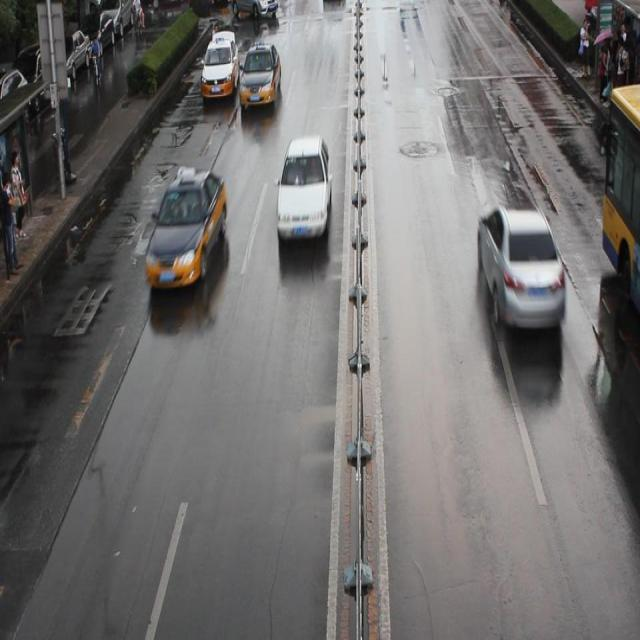car: (477, 203, 564, 332), (144, 166, 228, 288), (276, 136, 332, 240), (239, 39, 280, 107), (201, 38, 240, 97), (228, 1, 278, 20)
van: (598, 82, 640, 316)
